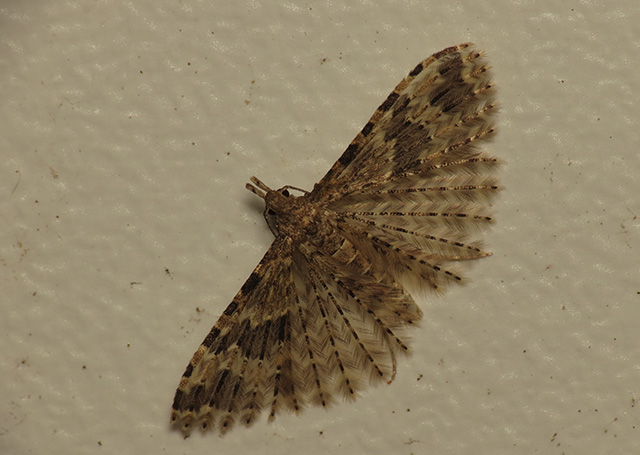feie: (166, 43, 498, 426)
